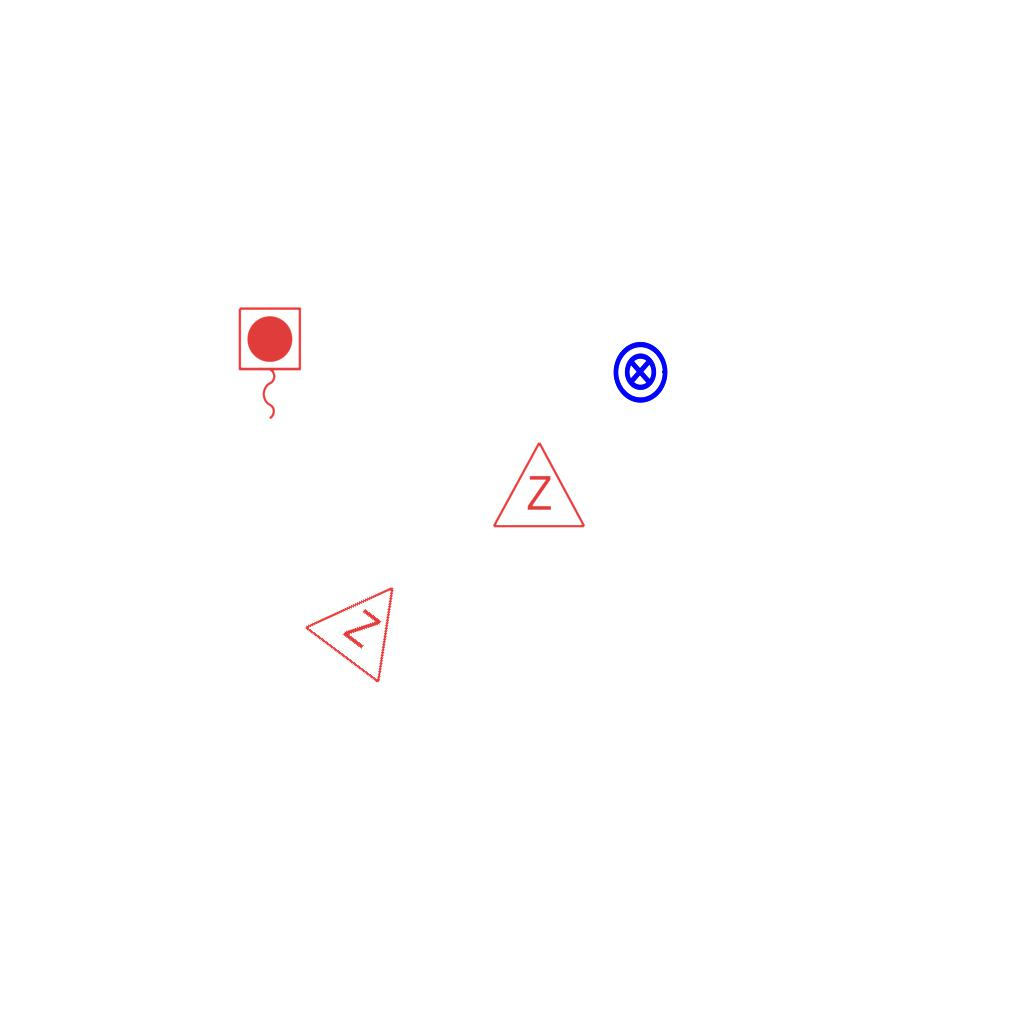Taster_beleuchtet: (607, 339, 673, 405)
Zimmersignalleuchte: (296, 551, 436, 691), (489, 435, 587, 535)
Zugtaster: (233, 303, 305, 425)
